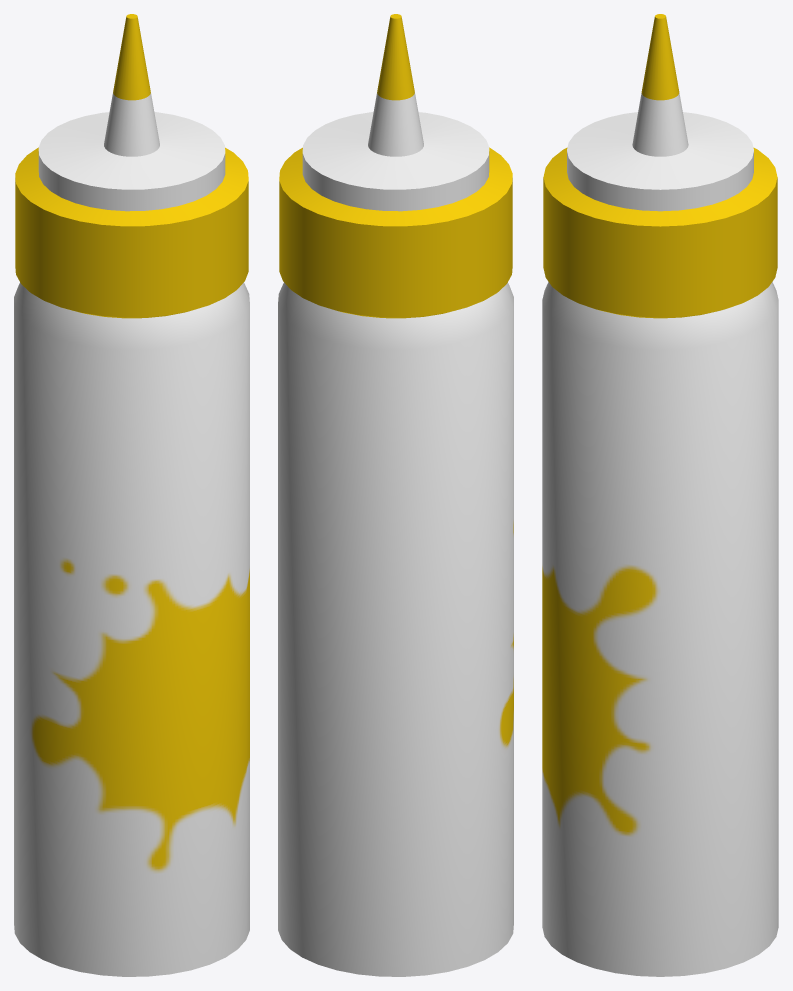
Rendered from BottleYellow.fbx.
3 renders of one model, left to right at view 1: azimuth 30°, elevation 25°; view 2: azimuth 150°, elevation 25°; view 3: azimuth 270°, elevation 25°, orthographic.
Visible parts, largest first — view 1: Body; view 2: Body; view 3: Body.
Part boxes in pixels (<box>): Body: <box>14,14,249,976</box>; Body: <box>278,14,513,976</box>; Body: <box>542,14,778,976</box>.
Bounding box in the file's own units: 40 × 170 × 40.
